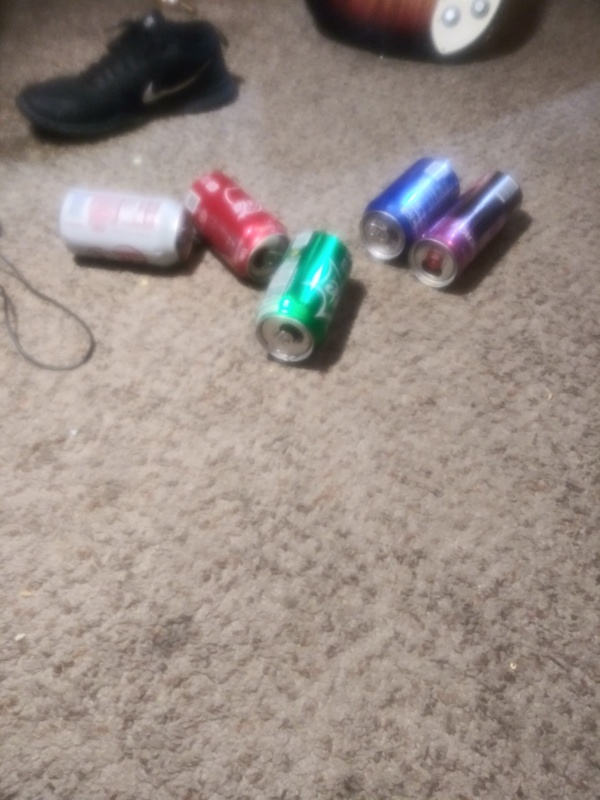can: (255, 227, 356, 373), (409, 167, 526, 290), (55, 182, 203, 275), (188, 168, 293, 286), (359, 153, 463, 267)
